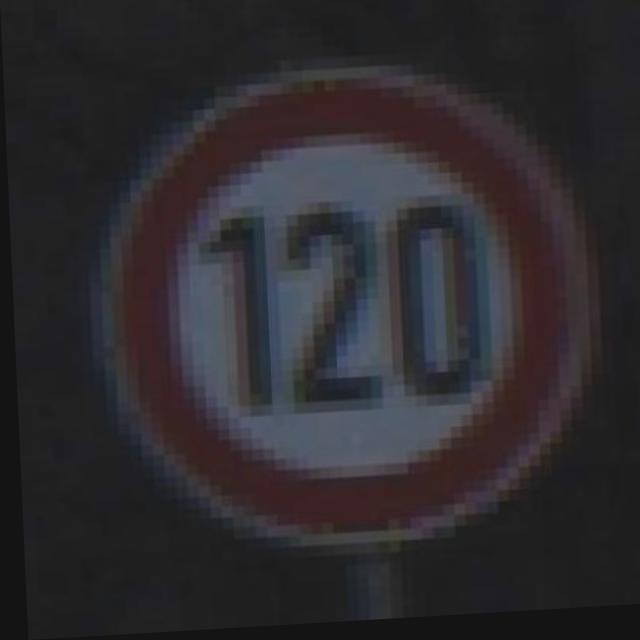limit120: (69, 44, 618, 573)
